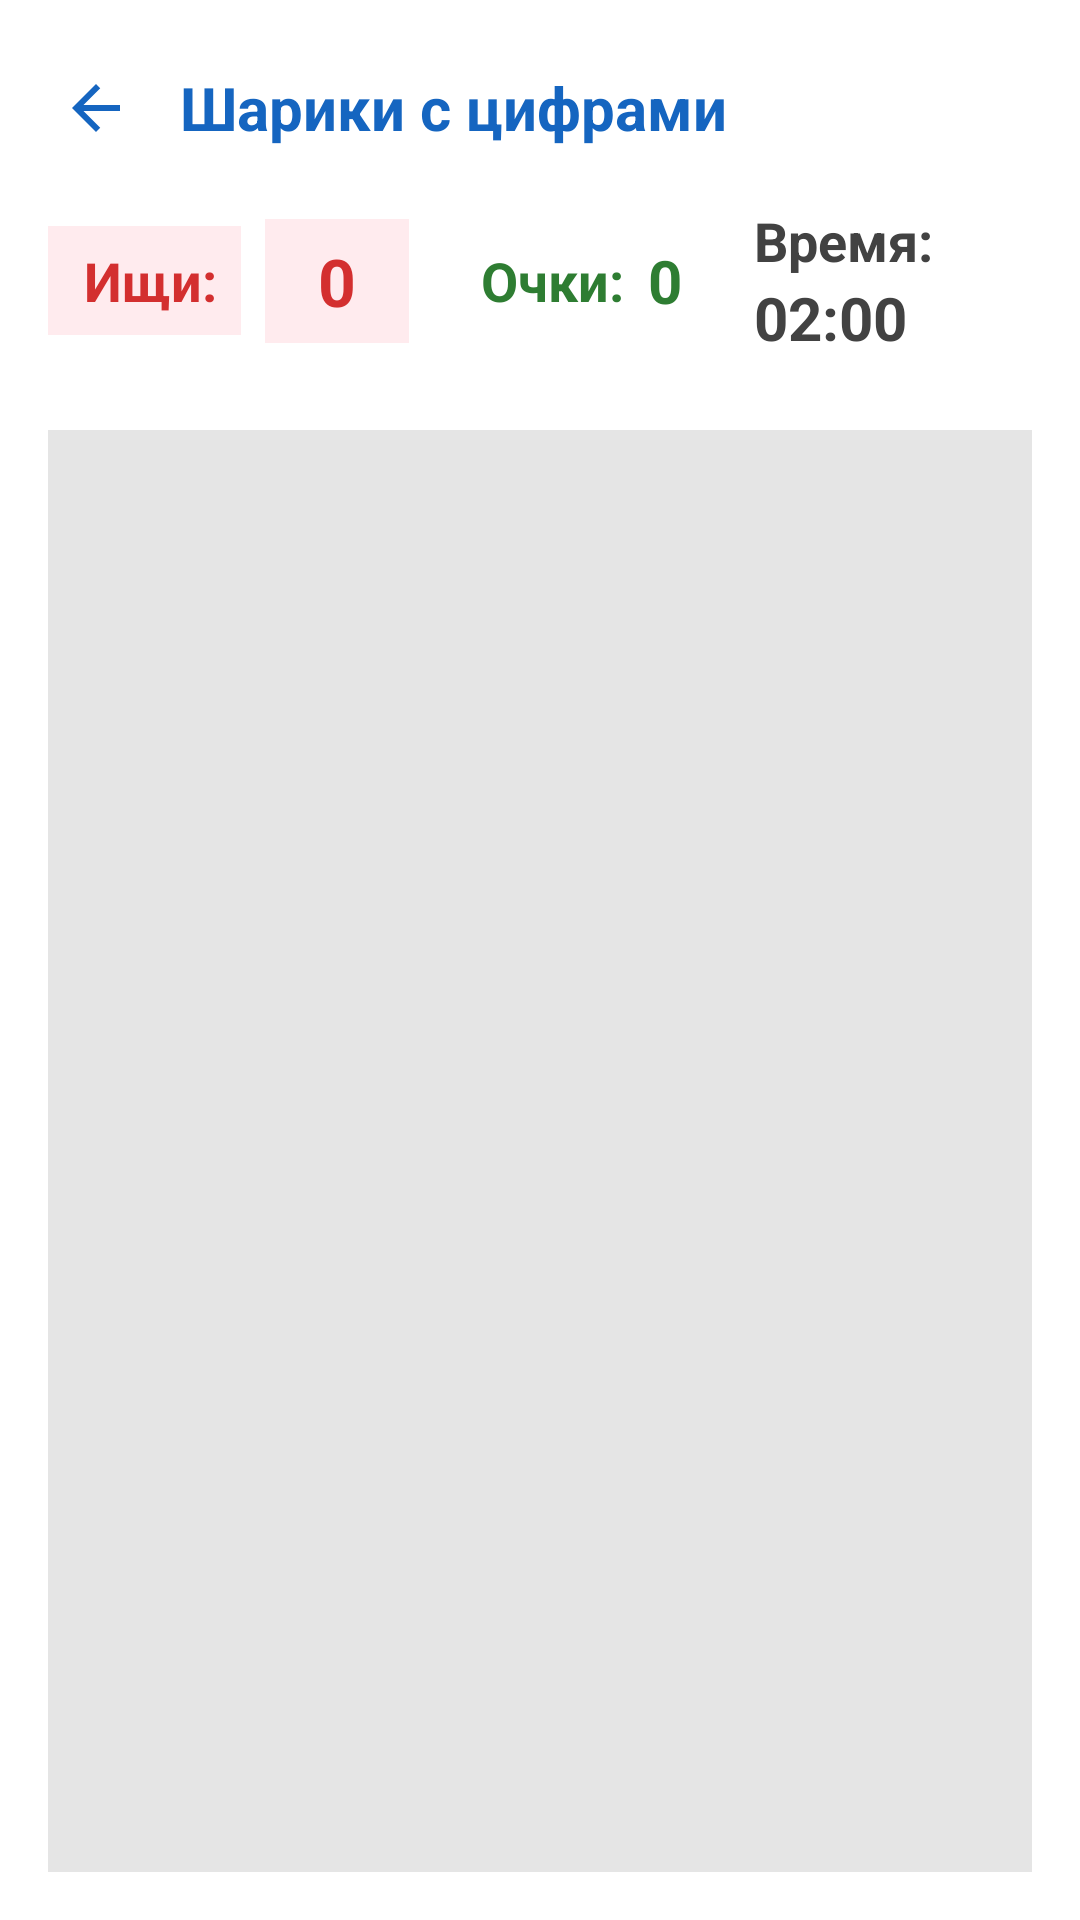

Screen size 1080px x 1920px. Icon name, then its box in pixels as [x1, y1, x2, y2]:
Назад: [72, 84, 120, 132]
